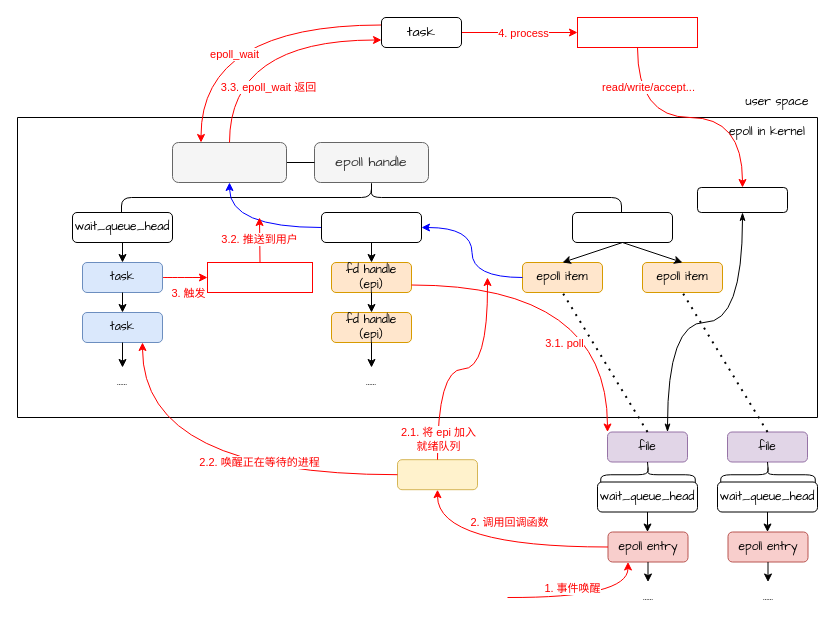
Some shapes in this 835 by 629 pixel diagram are drawn without their labels. Each missing label, with the centre of its shape:
"callback" belongs at (x=437, y=474).
"epoll fd" belongs at (x=229, y=162).
"fd_rb_root" belongs at (x=622, y=227).
"file descriptor" belongs at (x=742, y=199).
"ready_list" belongs at (x=371, y=227).
"扫描就绪队列并 发送事件" belongs at (x=259, y=277).
"进行对应的读写操作" belongs at (x=637, y=32).
